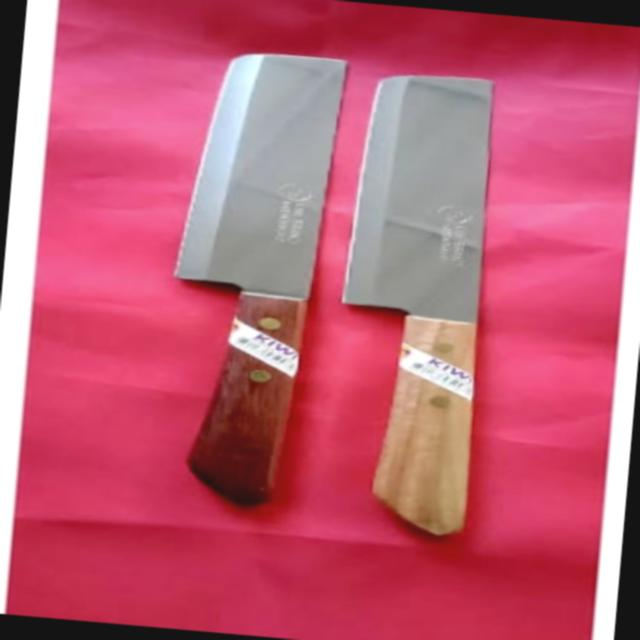knife: (128, 28, 568, 568)
